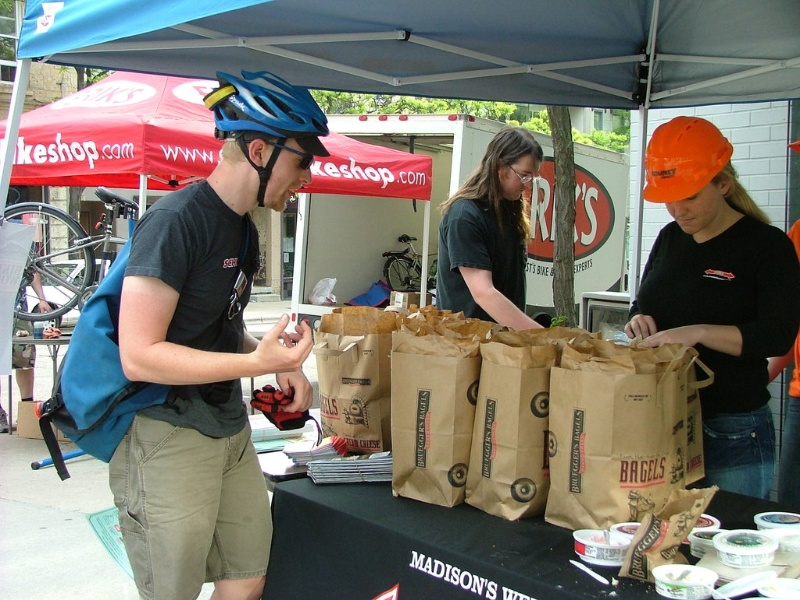Baret: (643, 115, 737, 204)
